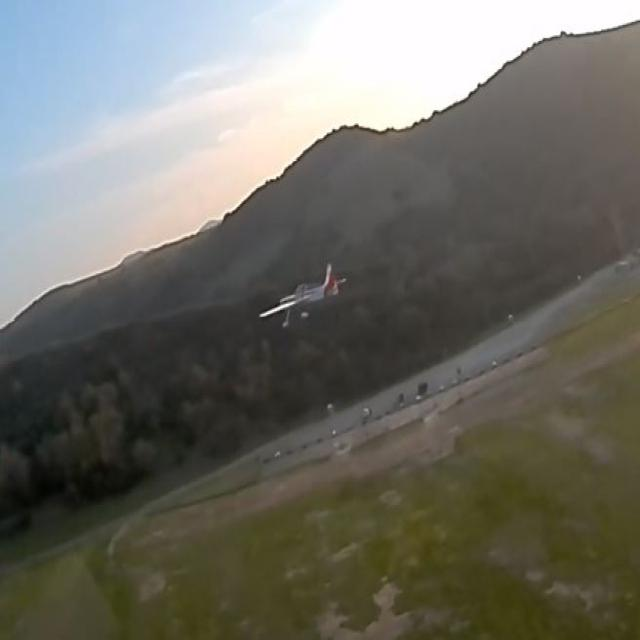iha: (290, 292, 315, 298)
